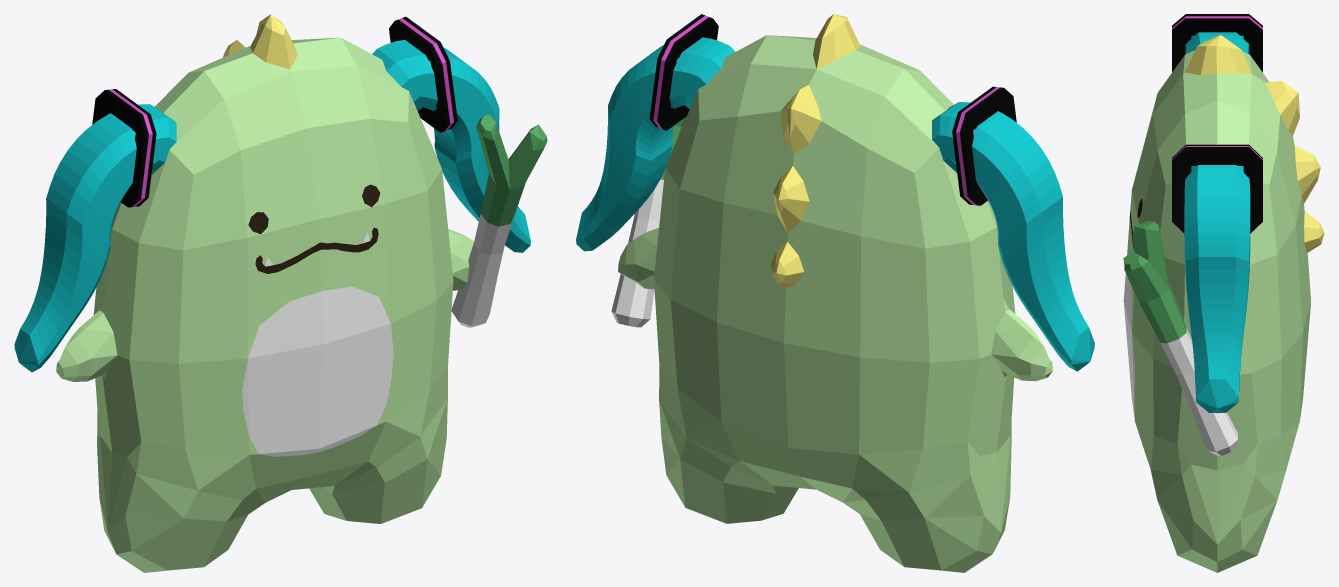
Rendered from 하츠네꽁룡.fbx.
3 renders of one model, left to right at view 1: azimuth 30°, elevation 25°; view 2: azimuth 150°, elevation 25°; view 3: azimuth 270°, elevation 25°, orthographic. The views are drawn at different scales.
Parts seen in each view (by area): view 1: Cube, Cube.006, Cube.008, Cube.007; view 2: Cube, Cube.006, Cube.007, Cube.008; view 3: Cube, Cube.006, Cube.008, Cube.007.
Part boxes in pixels (<box>): Cube: <box>56,14,473,572</box>; Cube.006: <box>14,39,530,372</box>; Cube.008: <box>451,114,547,327</box>; Cube.007: <box>92,16,457,207</box>; Cube: <box>618,14,1052,572</box>; Cube.006: <box>576,37,1094,371</box>; Cube.007: <box>649,14,1016,205</box>; Cube.008: <box>611,116,686,327</box>; Cube: <box>1123,35,1324,572</box>; Cube.006: <box>1184,32,1250,412</box>; Cube.008: <box>1123,221,1237,455</box>; Cube.007: <box>1172,14,1262,233</box>.
Bounding box in the file's own units: 397 × 393 × 149.
Materials: 4 (3 with a texture image).
